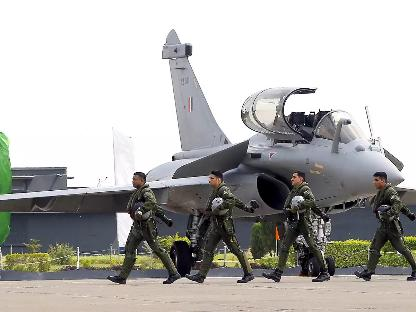RQ4: (0, 28, 416, 278)
